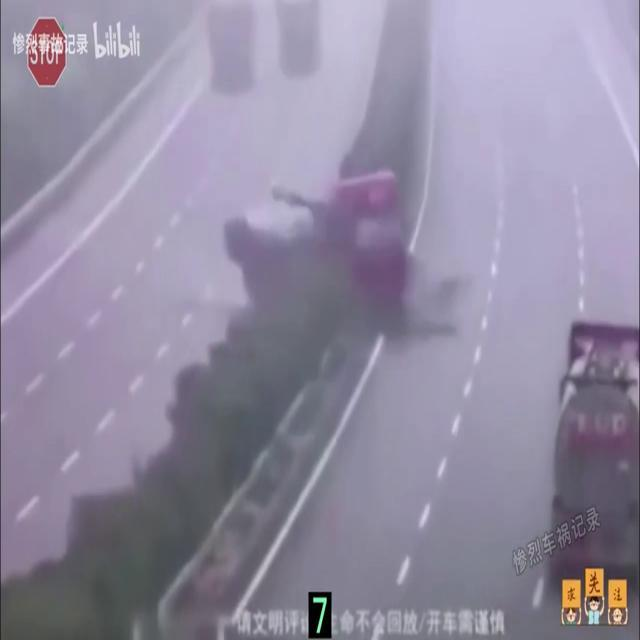single accident: (216, 153, 437, 356)
